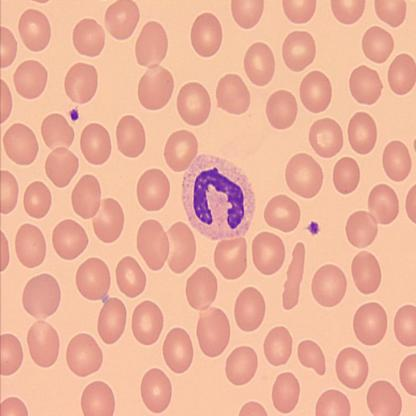Band Neutrophil: (179, 149, 257, 242)
